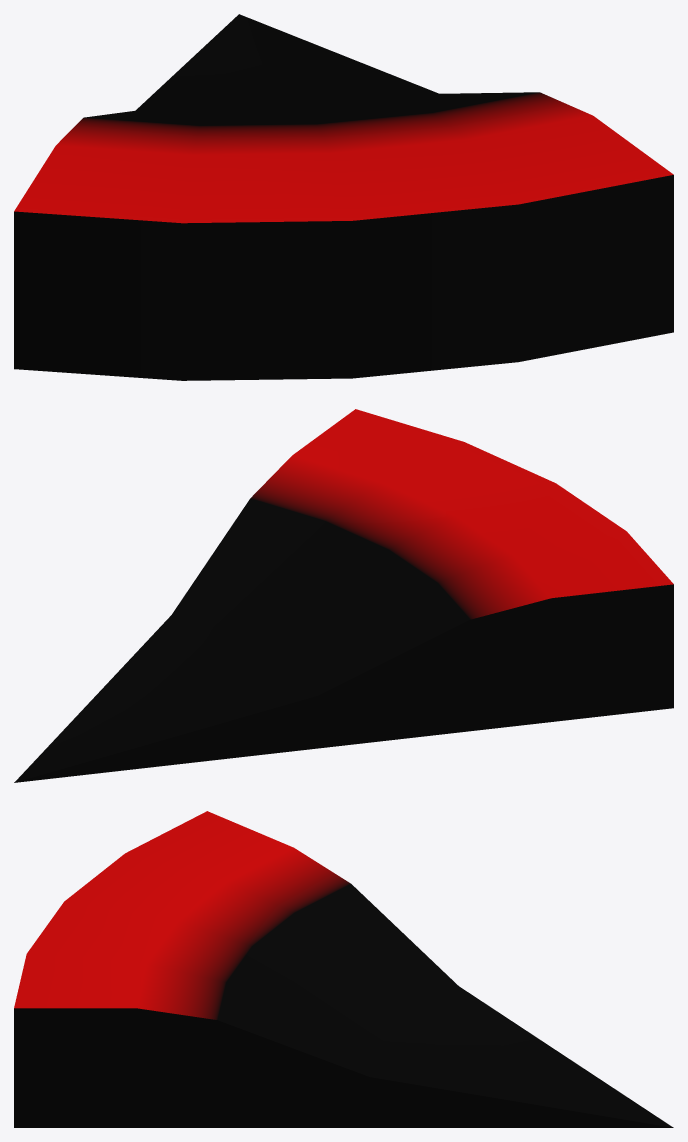
Rendered from PlatformDeclineCornerOut_45Deg.fbx.
3 views of the same model, one above another, from view 1: azimuth 30°, elevation 25°; view 2: azimuth 150°, elevation 25°; view 3: azimuth 270°, elevation 25° (orthographic). The views are drawn at different scales.
Visible parts, largest first — view 1: PlatformDeclineCornerOut_45Deg; view 2: PlatformDeclineCornerOut_45Deg; view 3: PlatformDeclineCornerOut_45Deg.
Boxes of the visible parts, box(x1,y1,x2,y2) form: PlatformDeclineCornerOut_45Deg: box(14, 14, 673, 380); PlatformDeclineCornerOut_45Deg: box(14, 409, 673, 782); PlatformDeclineCornerOut_45Deg: box(14, 811, 673, 1127).
Size of the model in its own units: 3.54 by 1 by 5.
